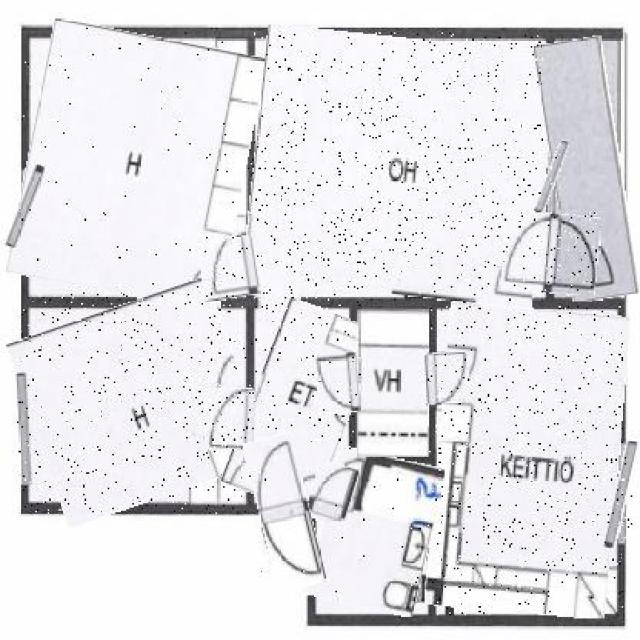door: (251, 434, 318, 589), (502, 212, 598, 294), (200, 237, 258, 300), (207, 389, 256, 451), (310, 463, 356, 525), (315, 354, 360, 412), (425, 354, 469, 403)
window: (609, 440, 634, 549), (12, 165, 38, 248), (540, 140, 563, 215), (17, 372, 31, 485)
zone: (248, 32, 550, 302), (18, 28, 255, 304), (431, 306, 623, 616), (20, 292, 255, 514), (237, 302, 365, 510), (544, 37, 630, 300), (312, 451, 437, 612), (357, 309, 429, 457)
